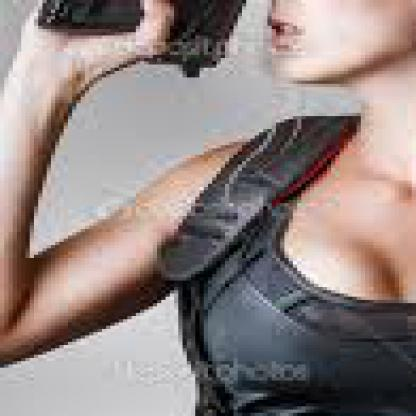gun: (17, 0, 306, 91)
